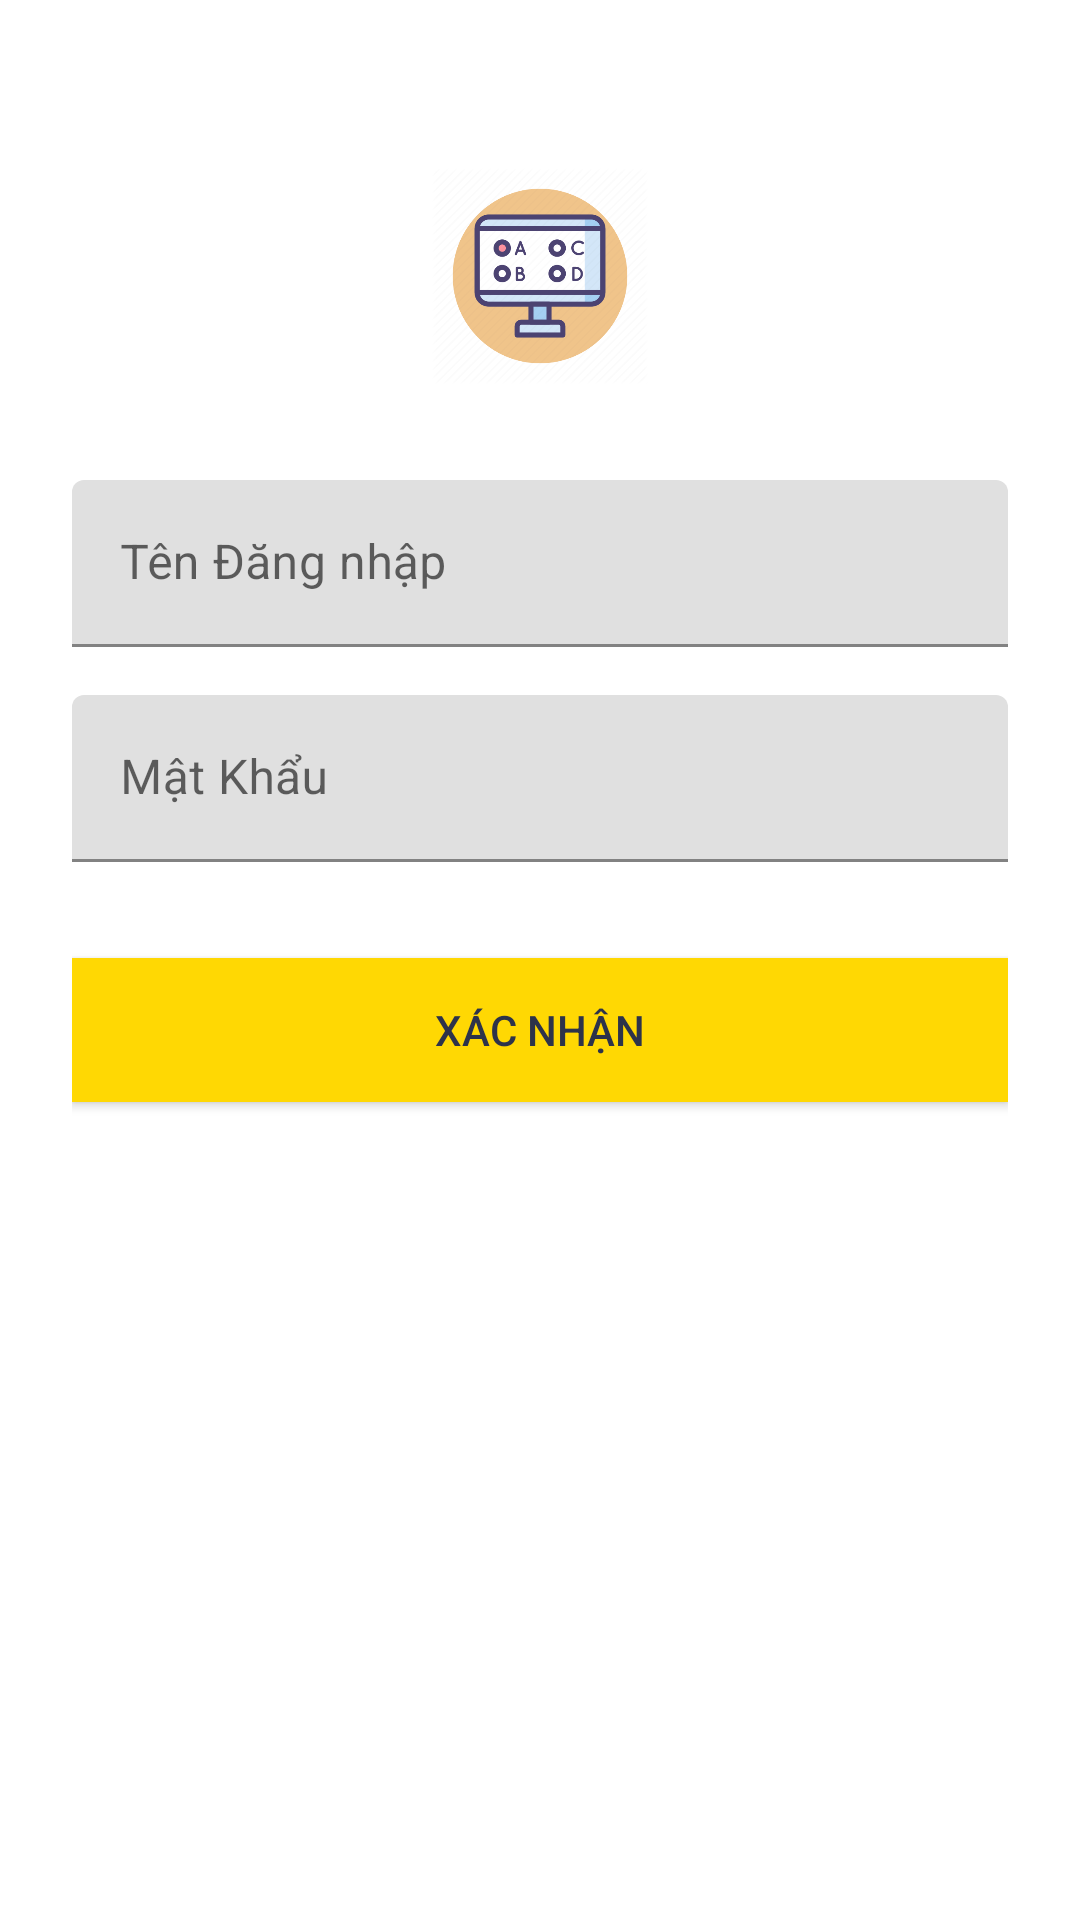

Icon bounding boxes for this 1080×1920 phone screenshot, format (x1, y1, x2, y2):
choice: (453, 189, 627, 363)
